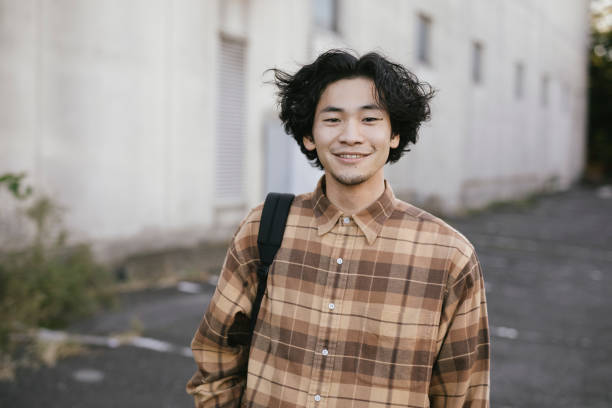person: (274, 50, 432, 190)
